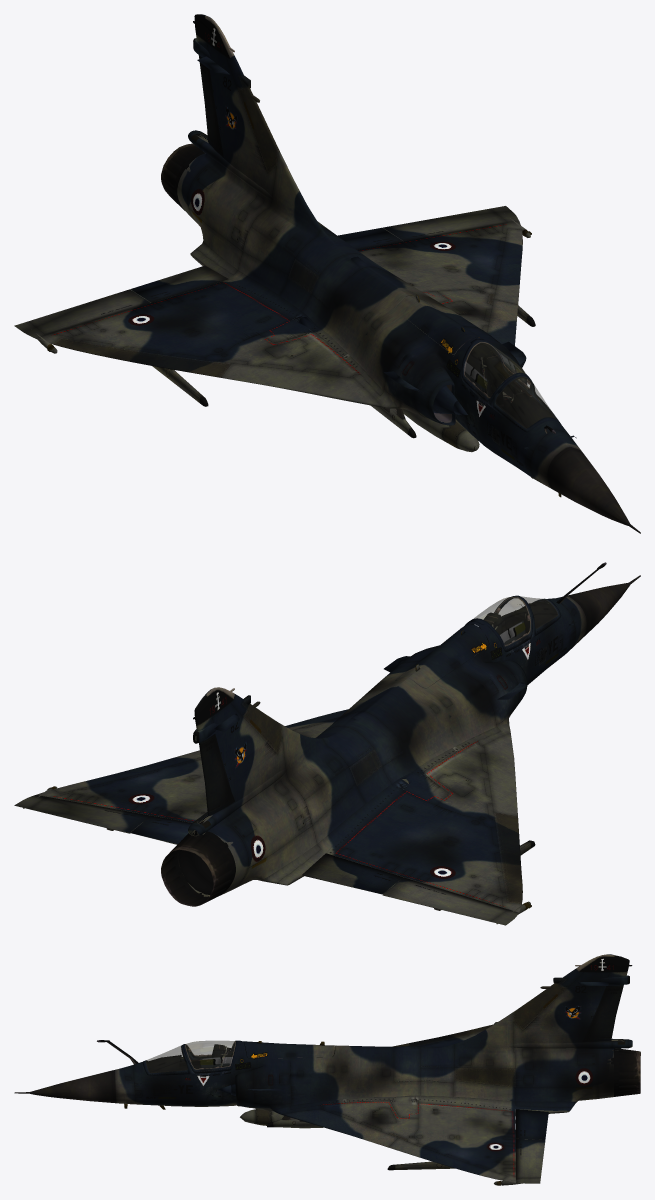
The model's file is mirage.obj.
3 views of the same model, one above another, from view 1: azimuth 30°, elevation 25°; view 2: azimuth 150°, elevation 25°; view 3: azimuth 270°, elevation 25° (orthographic). The views are drawn at different scales.
Parts seen in each view (by area): view 1: fuselage_NO_BONE, aileron_r, aileron_l, cageglass, frontglass, flap_r, tank, rudder, cage, flap_l; view 2: fuselage_NO_BONE, aileron_r, aileron_l, flap_r, rudder, cageglass, flap_l, frontglass, cage; view 3: fuselage_NO_BONE, rudder, cageglass, aileron_l, flap_l, frontglass, tank, cage.
Boxes of the visible parts, x1=… form: fuselage_NO_BONE: x1=36, y1=14, x2=640, y2=533; aileron_r: x1=14, y1=289, x2=150, y2=338; aileron_l: x1=383, y1=206, x2=518, y2=241; cageglass: x1=463, y1=342, x2=529, y2=397; frontglass: x1=495, y1=377, x2=557, y2=428; flap_r: x1=130, y1=265, x2=228, y2=302; tank: x1=402, y1=408, x2=479, y2=452; rudder: x1=198, y1=55, x2=223, y2=156; cage: x1=461, y1=338, x2=531, y2=403; flap_l: x1=338, y1=227, x2=402, y2=249; fuselage_NO_BONE: x1=23, y1=562, x2=640, y2=924; aileron_r: x1=382, y1=877, x2=518, y2=925; aileron_l: x1=14, y1=795, x2=150, y2=833; flap_r: x1=302, y1=853, x2=403, y2=894; rudder: x1=199, y1=734, x2=234, y2=815; cageglass: x1=473, y1=596, x2=531, y2=646; flap_l: x1=130, y1=815, x2=192, y2=844; frontglass: x1=499, y1=596, x2=558, y2=628; cage: x1=465, y1=595, x2=532, y2=652; fuselage_NO_BONE: x1=14, y1=954, x2=640, y2=1185; rudder: x1=582, y1=985, x2=623, y2=1041; cageglass: x1=185, y1=1040, x2=235, y2=1069; aileron_l: x1=516, y1=1139, x2=545, y2=1183; flap_l: x1=516, y1=1109, x2=548, y2=1139; frontglass: x1=146, y1=1046, x2=187, y2=1072; tank: x1=240, y1=1109, x2=323, y2=1128; cage: x1=182, y1=1040, x2=240, y2=1073.
Bounding box in the file's own units: 9.07 × 4.4 × 14.5.
2 materials, 2 textured.
